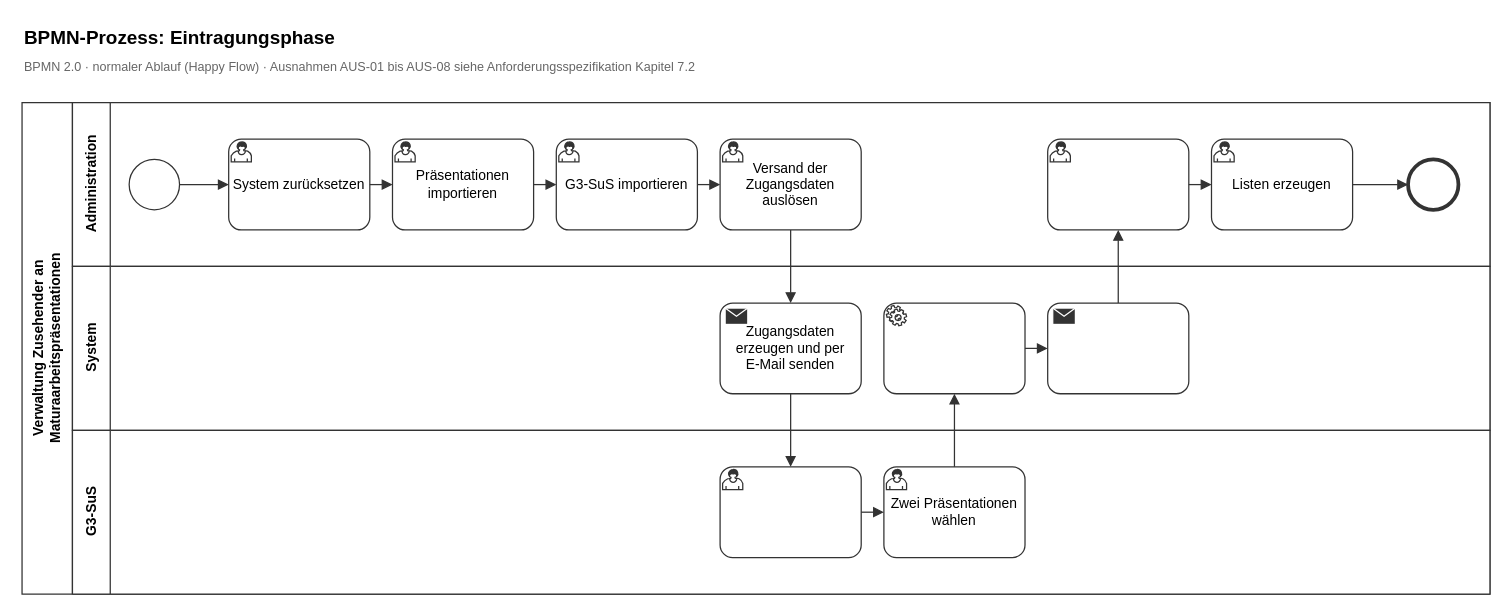
Image size: 1512x616. Some labels were removed from this diagram. The centre of each missing label's shape, as x and y in pixels:
Anmelden: the point at 790,512
Bestätigung per E-Mail senden: the point at 1117,348
Eintragungen speichern: the point at 954,348
Eintragungsphase abgeschlossen: the point at 1432,184
Eintragungsphase schliessen: the point at 1117,184
Neues Schuljahr: the point at 154,184
